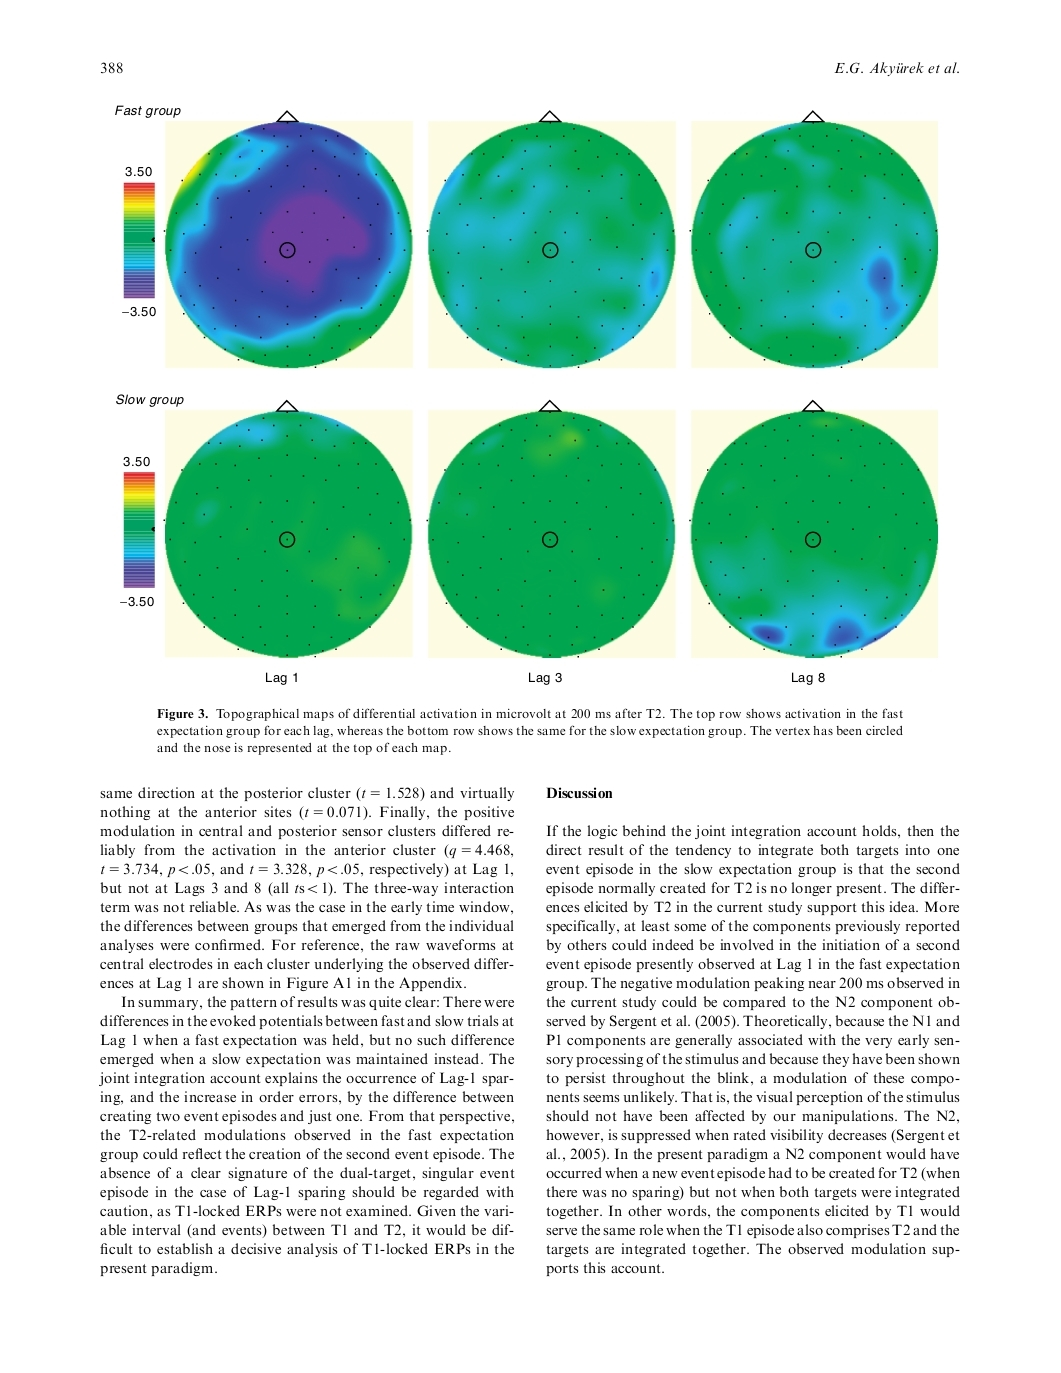figure: (115, 104, 412, 369), (116, 392, 412, 658), (426, 109, 675, 369), (426, 398, 675, 658), (689, 109, 937, 369), (689, 398, 937, 658)
